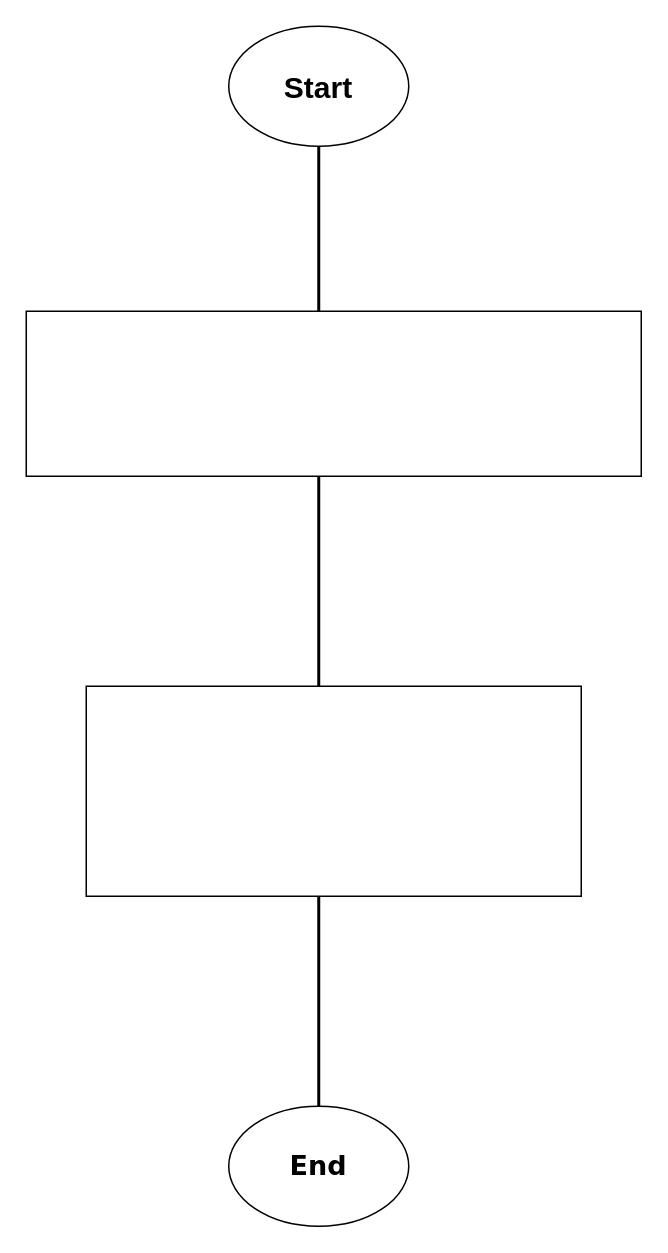
Image size: 668x1253. Some labels were removed from this diagram. Each missing label, with the centre of its shape:
"Total reward points of customers" goes at point 333,393.
"Transaction history of each customer" goes at point 333,790.
